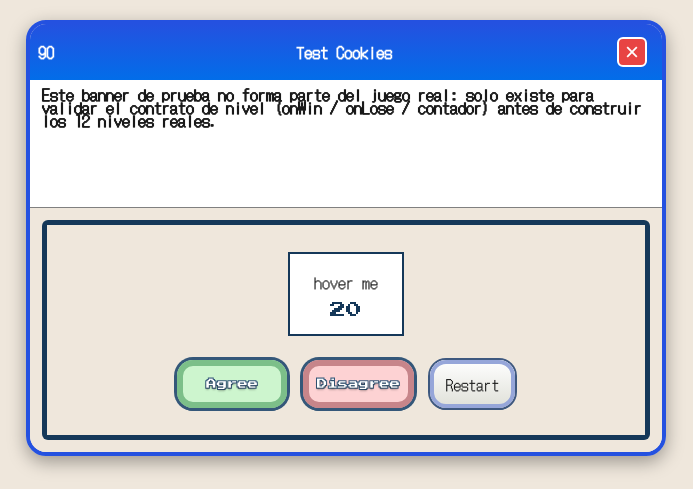
LevelHost — onRestart (005-plan.md) › remounts the level (clean internal state) and resets the shell countdown to 100 on restart
Expected: the text "Restart" is shown, [446,373,499,395]
Expected: the text "90" is shown, [38,40,54,64]
What coordinates should you click on to do the following:
click the button "Restart"
I would click on:
 (472, 384)
Its box is [430,360,515,408].
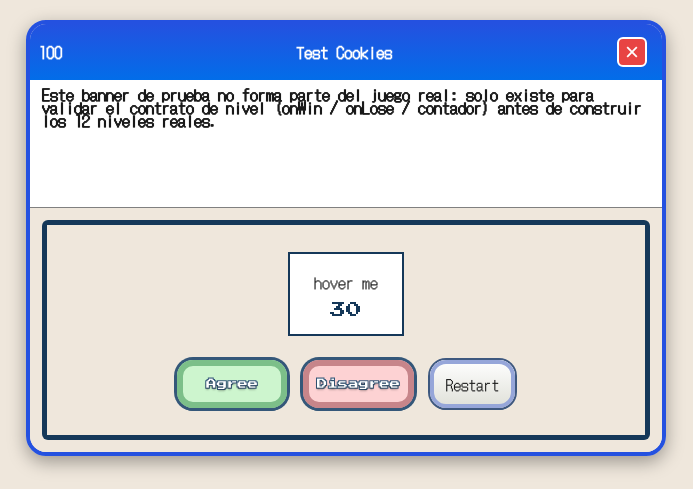
Now the text "100" is shown, box [38,40,62,64]
Now the text "30" is shown, box [330,302,362,318]
